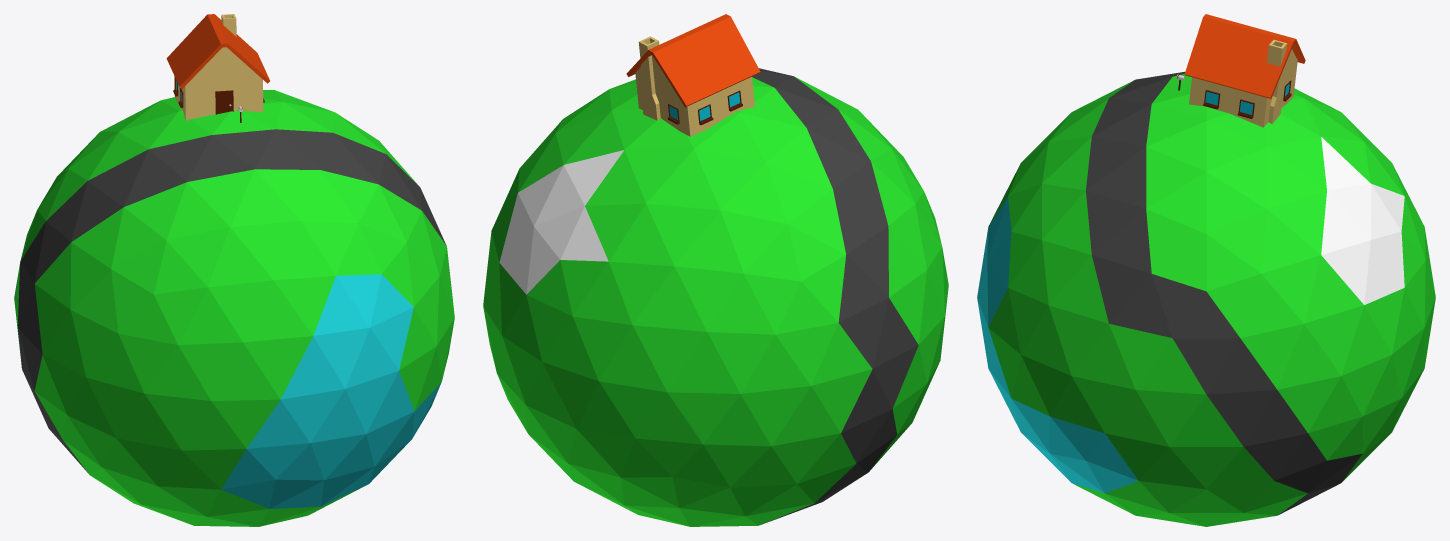
File: planethouse.fbx
The picture shows the model from 3 angles, left to right: view 1: azimuth 30°, elevation 25°; view 2: azimuth 150°, elevation 25°; view 3: azimuth 270°, elevation 25°; orthographic projection. The views are drawn at different scales.
Visible parts, largest first — view 1: Icosphere, Cube; view 2: Icosphere, Cube, Cube.001; view 3: Icosphere, Cube, Cube.001.
Part boxes in pixels (x1,y1,x2,y2): Icosphere: (14, 90, 454, 526); Cube: (166, 14, 269, 120); Icosphere: (483, 68, 948, 526); Cube: (626, 14, 760, 136); Cube.001: (638, 36, 660, 120); Icosphere: (977, 72, 1435, 526); Cube: (1184, 14, 1305, 127); Cube.001: (1266, 39, 1287, 123).
Bounding box in the file's own units: 40 × 46.62 × 40.
